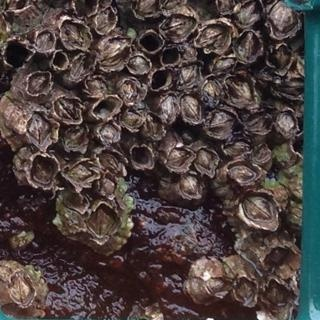Barnacle: (240, 192, 278, 226), (85, 203, 117, 243), (190, 273, 226, 304), (196, 19, 233, 49), (100, 37, 132, 71), (261, 281, 295, 311), (269, 2, 298, 35), (27, 110, 53, 146), (162, 14, 196, 41), (61, 19, 88, 51), (226, 77, 255, 106), (29, 155, 57, 185), (65, 161, 93, 189), (235, 31, 261, 61), (199, 77, 223, 108), (235, 0, 264, 25), (175, 61, 202, 87), (9, 275, 33, 304), (54, 95, 80, 121), (228, 162, 258, 184), (269, 44, 292, 72), (234, 275, 256, 304), (179, 92, 201, 121), (208, 109, 233, 134), (69, 53, 93, 79), (95, 150, 120, 174), (155, 92, 177, 118), (179, 172, 200, 198), (223, 137, 253, 155), (165, 148, 193, 167), (26, 71, 49, 94), (267, 244, 289, 267), (127, 53, 152, 73), (95, 5, 114, 31), (196, 145, 215, 170), (86, 77, 108, 98), (33, 30, 54, 52), (121, 81, 139, 106), (99, 122, 119, 144), (212, 56, 236, 74), (97, 177, 117, 198), (121, 108, 142, 128), (147, 112, 162, 138), (277, 112, 294, 134), (138, 0, 160, 17), (254, 145, 269, 161), (216, 0, 233, 14), (163, 0, 183, 10)
